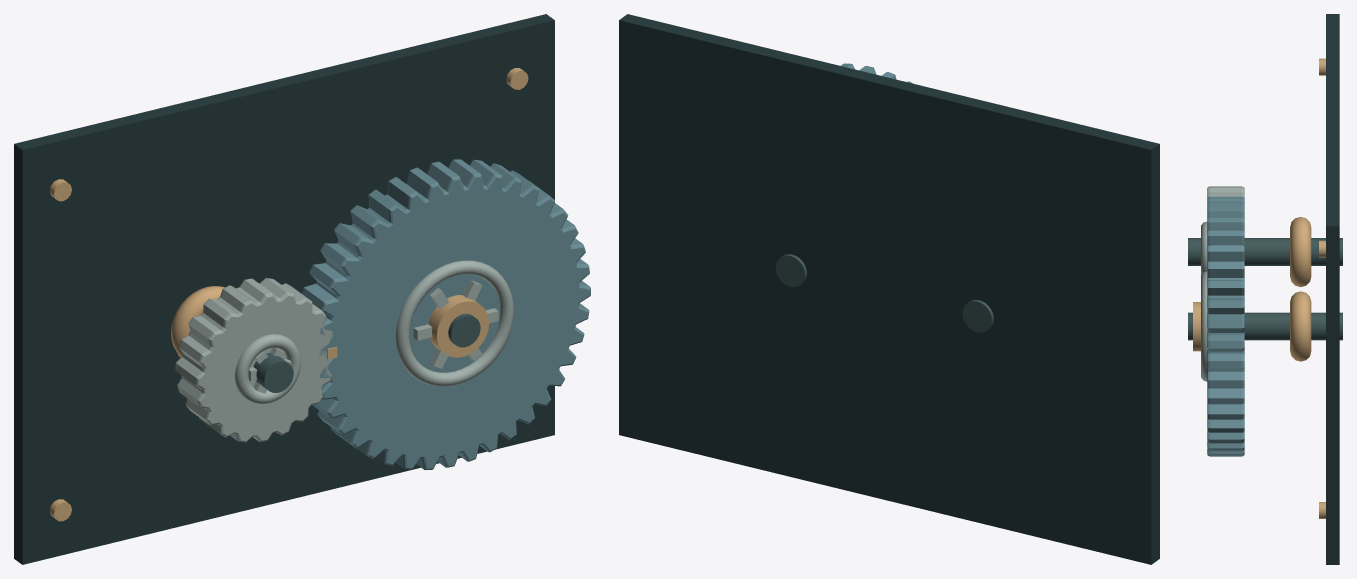
The model's file is gear-system.glb.
The picture shows the model from 3 angles, left to right: view 1: azimuth 30°, elevation 25°; view 2: azimuth 150°, elevation 25°; view 3: azimuth 270°, elevation 25°; orthographic projection. The views are drawn at different scales.
Visible parts, largest first — view 1: MountingPlate, DrivenGear, DriverGear, DrivenSpokeRing, DriverSpokeRing, DrivenHub, InputBearing, InputShaft, OutputShaft; view 2: MountingPlate, InputShaft, OutputShaft; view 3: DrivenGear, MountingPlate, InputShaft, OutputShaft, OutputBearing, InputBearing, DrivenSpokeRing, DriverGear, DrivenHub, DriverSpokeRing.
Boxes of the visible parts, x1,y1,x2,y2 form: MountingPlate: [14, 14, 554, 564]; DrivenGear: [301, 159, 590, 469]; DriverGear: [175, 278, 334, 442]; DrivenSpokeRing: [395, 260, 513, 386]; DriverSpokeRing: [235, 334, 300, 403]; DrivenHub: [428, 295, 488, 357]; InputBearing: [171, 286, 224, 357]; InputShaft: [253, 353, 293, 392]; OutputShaft: [448, 313, 480, 347]; MountingPlate: [619, 14, 1159, 564]; InputShaft: [962, 299, 993, 332]; OutputShaft: [775, 254, 806, 287]; DrivenGear: [1207, 196, 1244, 456]; MountingPlate: [1326, 14, 1339, 564]; InputShaft: [1188, 238, 1342, 265]; OutputShaft: [1188, 312, 1342, 340]; OutputBearing: [1290, 291, 1311, 361]; InputBearing: [1290, 217, 1311, 287]; DrivenSpokeRing: [1201, 271, 1207, 381]; DriverGear: [1207, 186, 1244, 197]; DrivenHub: [1193, 302, 1200, 351]; DriverSpokeRing: [1201, 221, 1207, 274].
Bounding box in the file's own units: 4.7 × 3.5 × 1.45.
